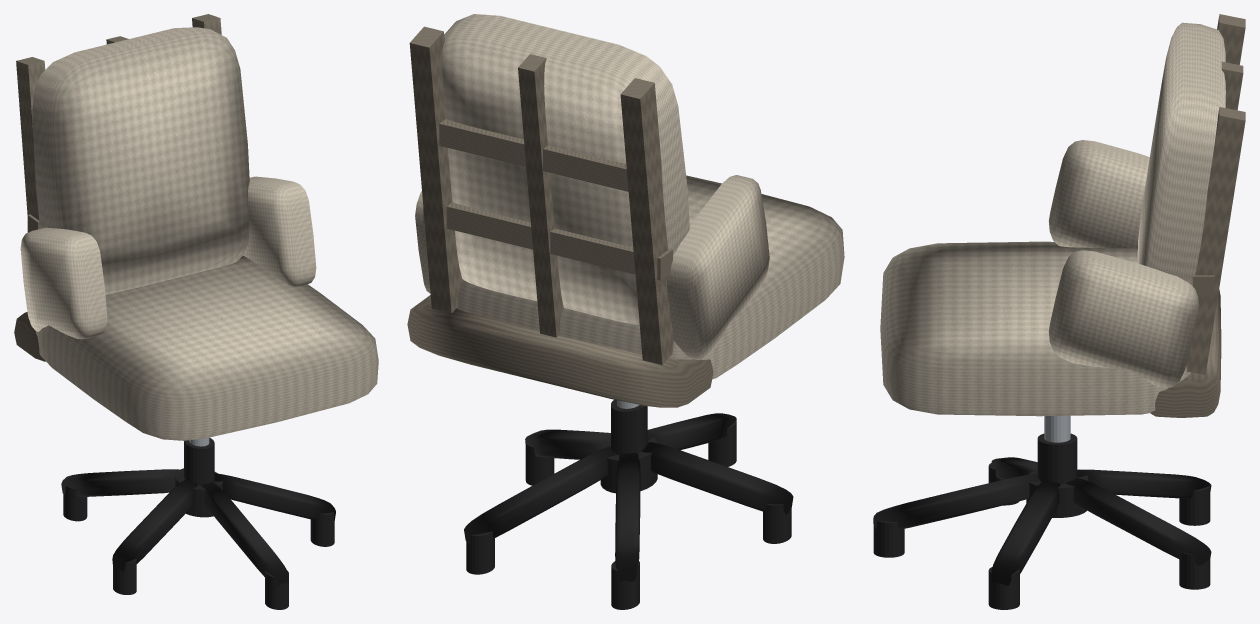
3 renders of one model, left to right at view 1: azimuth 30°, elevation 25°; view 2: azimuth 150°, elevation 25°; view 3: azimuth 270°, elevation 25°, orthographic. The views are drawn at different scales.
Parts seen in each view (by area): view 1: 2 backrest, 1 seat, 3 armrest_left, 4 armrest_right, 15 base_spoke_1, 19 base_spoke_5, 18 base_spoke_4, 16 base_spoke_2, 6 wood_frame_left, 13 gas_lift_lower, 5 wood_base_rail, 21 wheel_2 (+4 smaller); view 2: 2 backrest, 1 seat, 5 wood_base_rail, 3 armrest_left, 6 wood_frame_left, 7 wood_frame_right, 8 wood_frame_center, 10 wood_rail_lower, 9 wood_rail_upper, 19 base_spoke_5, 17 base_spoke_3, 18 base_spoke_4 (+10 smaller); view 3: 1 seat, 2 backrest, 4 armrest_right, 3 armrest_left, 7 wood_frame_right, 17 base_spoke_3, 15 base_spoke_1, 16 base_spoke_2, 5 wood_base_rail, 18 base_spoke_4, 13 gas_lift_lower, 20 wheel_1 (+8 smaller).
Part boxes in pixels (x1=…): 2 backrest: x1=32, y1=27, x2=249, y2=295; 1 seat: x1=36, y1=255, x2=378, y2=440; 3 armrest_left: x1=20, y1=227, x2=107, y2=339; 4 armrest_right: x1=243, y1=176, x2=316, y2=286; 15 base_spoke_1: x1=201, y1=482, x2=288, y2=586; 19 base_spoke_5: x1=112, y1=479, x2=197, y2=572; 18 base_spoke_4: x1=61, y1=469, x2=183, y2=496; 16 base_spoke_2: x1=214, y1=473, x2=335, y2=520; 6 wood_frame_left: x1=16, y1=57, x2=45, y2=220; 13 gas_lift_lower: x1=184, y1=437, x2=214, y2=485; 5 wood_base_rail: x1=14, y1=312, x2=45, y2=361; 21 wheel_2: x1=310, y1=512, x2=334, y2=546; 2 backrest: x1=442, y1=14, x2=689, y2=325; 1 seat: x1=456, y1=175, x2=844, y2=379; 5 wood_base_rail: x1=407, y1=295, x2=713, y2=407; 3 armrest_left: x1=666, y1=175, x2=769, y2=360; 6 wood_frame_left: x1=620, y1=78, x2=673, y2=364; 7 wood_frame_right: x1=409, y1=26, x2=463, y2=313; 8 wood_frame_center: x1=518, y1=54, x2=563, y2=337; 10 wood_rail_lower: x1=423, y1=202, x2=672, y2=280; 9 wood_rail_upper: x1=439, y1=119, x2=628, y2=191; 19 base_spoke_5: x1=642, y1=442, x2=793, y2=514; 17 base_spoke_3: x1=464, y1=446, x2=616, y2=545; 18 base_spoke_4: x1=615, y1=452, x2=640, y2=582; 1 seat: x1=880, y1=241, x2=1190, y2=416; 2 backrest: x1=1137, y1=22, x2=1225, y2=285; 4 armrest_right: x1=1048, y1=250, x2=1198, y2=388; 3 armrest_left: x1=1048, y1=140, x2=1149, y2=248; 7 wood_frame_right: x1=1186, y1=107, x2=1245, y2=375; 17 base_spoke_3: x1=1066, y1=477, x2=1211, y2=565; 15 base_spoke_1: x1=873, y1=474, x2=1039, y2=529; 16 base_spoke_2: x1=991, y1=481, x2=1060, y2=585; 5 wood_base_rail: x1=1150, y1=289, x2=1221, y2=417; 18 base_spoke_4: x1=1077, y1=469, x2=1211, y2=498; 13 gas_lift_lower: x1=1037, y1=433, x2=1077, y2=484; 20 wheel_1: x1=873, y1=521, x2=904, y2=557.
Bounding box in the file's own units: 0.5513 × 1 × 0.6795.
5 materials, 2 textured.
